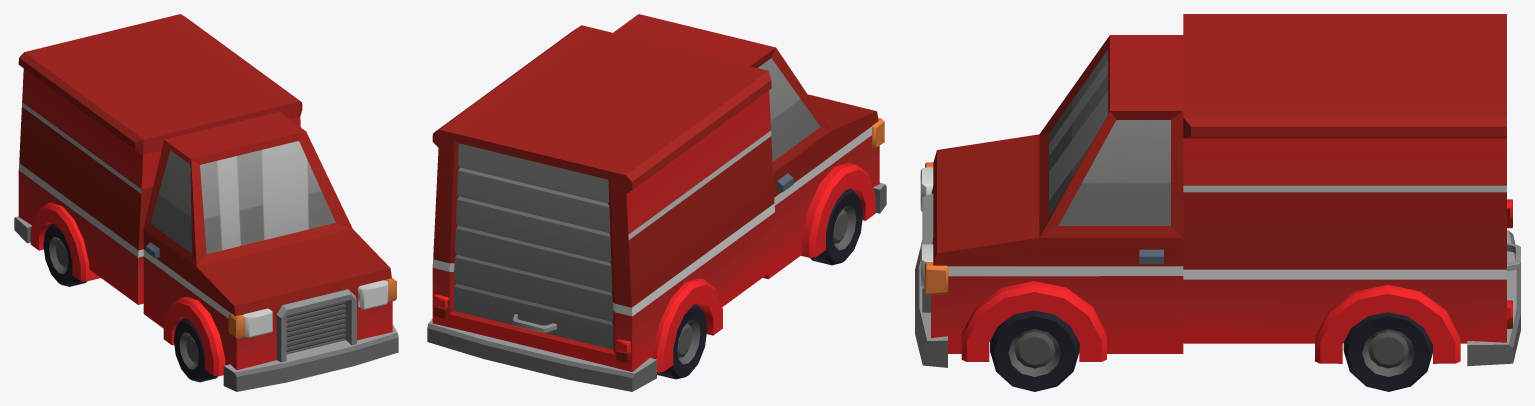
Rendered from PostCar_3.fbx.
3 renders of one model, left to right at view 1: azimuth 30°, elevation 25°; view 2: azimuth 150°, elevation 25°; view 3: azimuth 270°, elevation 25°, orthographic. The views are drawn at different scales.
Visible parts, largest first — view 1: PostCar_3, Wheel_FR, Wheel_BR; view 2: PostCar_3, Wheel_FR, Wheel_BR; view 3: PostCar_3, Wheel_FL, Wheel_BL.
Part boxes in pixels (<box>): PostCar_3: <box>14,14,398,391</box>; Wheel_FR: <box>173,318,217,382</box>; Wheel_BR: <box>43,224,86,286</box>; PostCar_3: <box>427,14,886,391</box>; Wheel_FR: <box>810,188,863,265</box>; Wheel_BR: <box>657,304,707,379</box>; PostCar_3: <box>915,14,1520,367</box>; Wheel_FL: <box>990,310,1079,391</box>; Wheel_BL: <box>1343,312,1432,391</box>.
Bounding box in the file's own units: 118 × 124 × 251.
